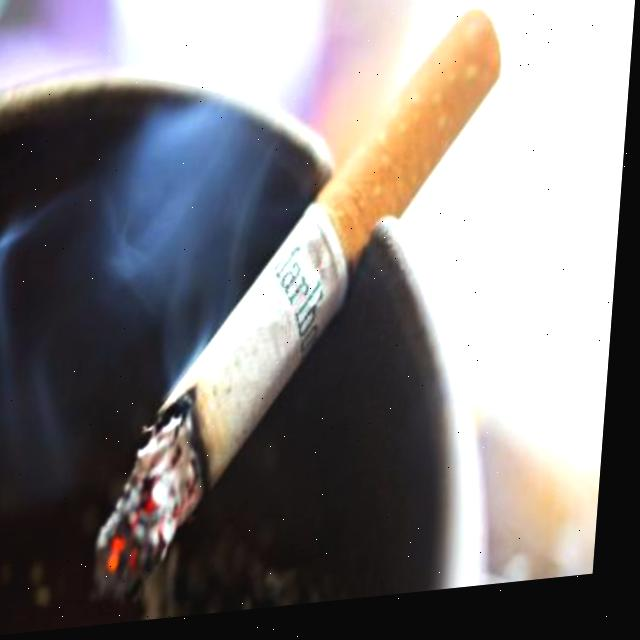cigarette: (97, 12, 503, 612)
